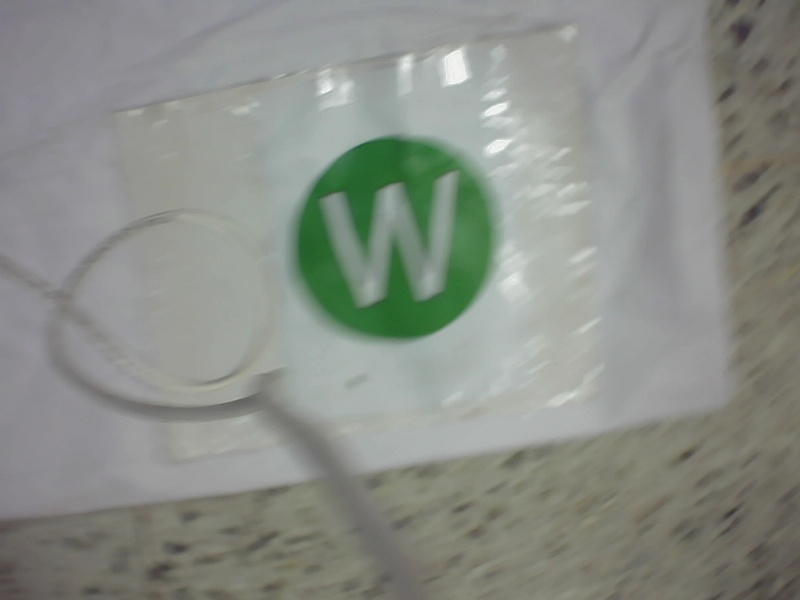areaB: (289, 129, 499, 347)
